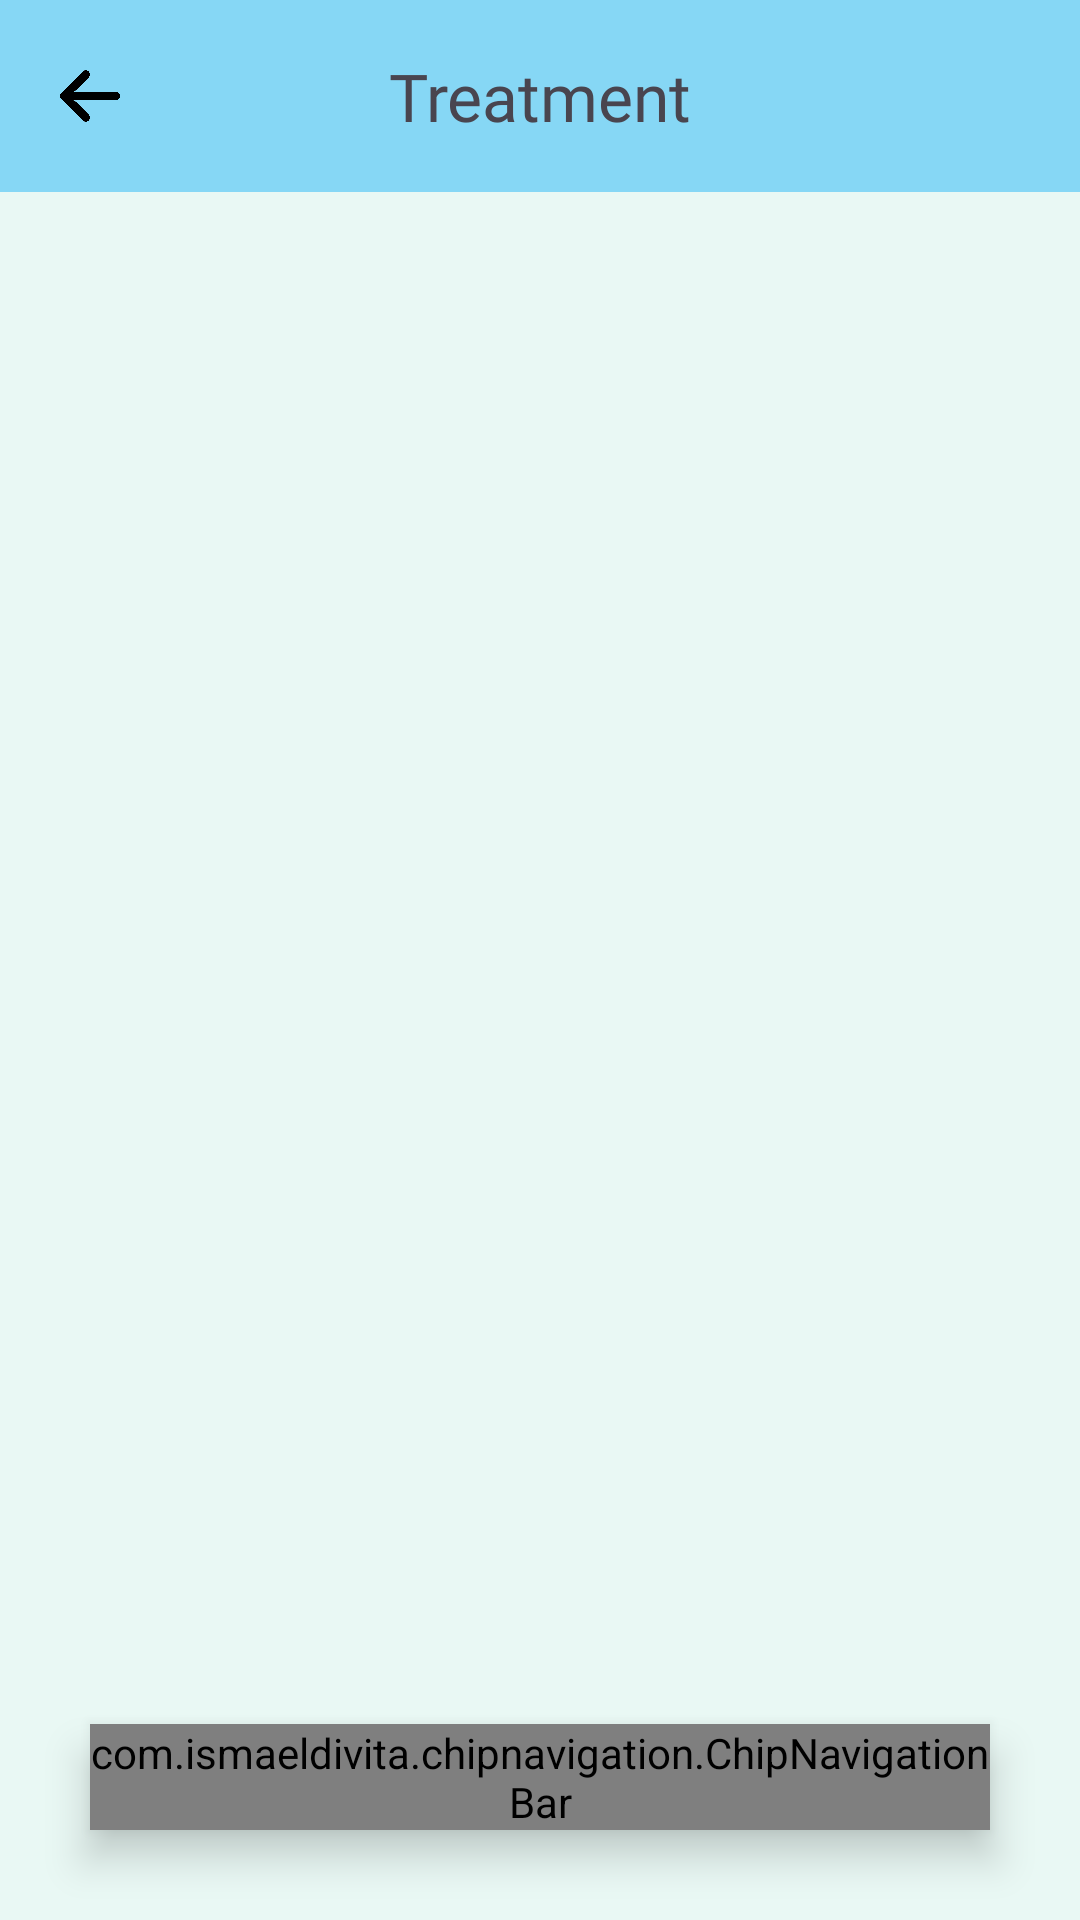

Icons on this 1080px×1920px Android screen, each with its box as [x1,y1,x2,y2]:
arrow: [60,70,120,122]
